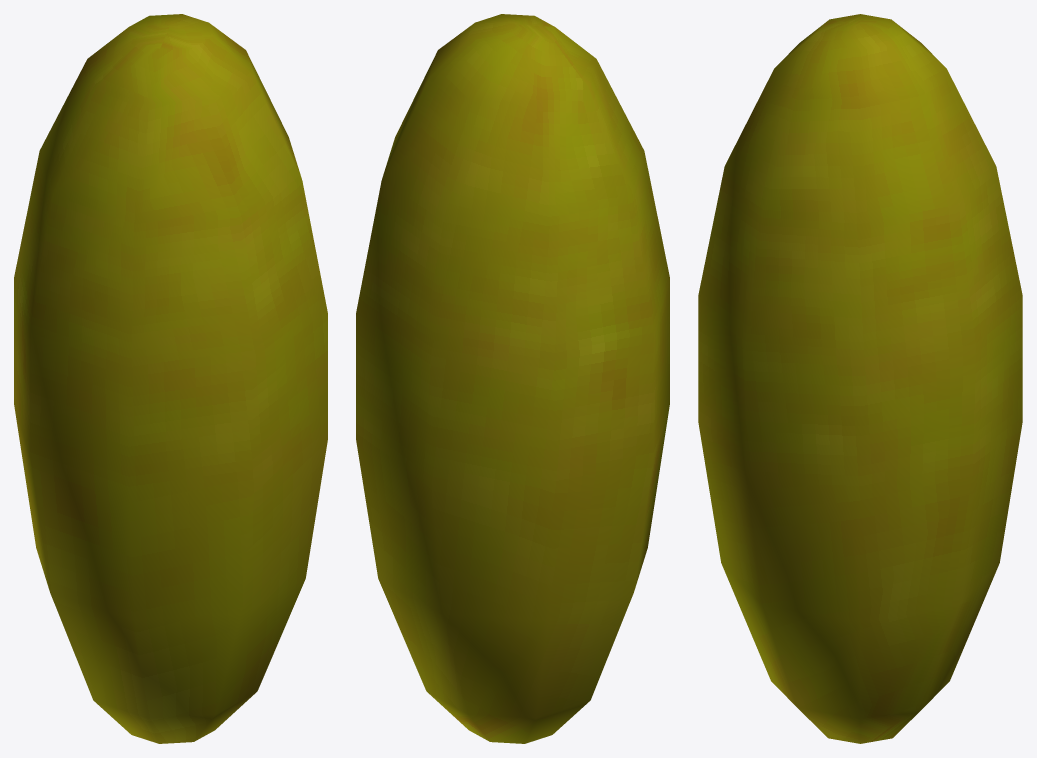
Rendered from treeUnknown.obj.
The picture shows the model from 3 angles, left to right: view 1: azimuth 30°, elevation 25°; view 2: azimuth 150°, elevation 25°; view 3: azimuth 270°, elevation 25°; orthographic projection.
Visible parts, largest first — view 1: Tree_A_TreeA; view 2: Tree_A_TreeA; view 3: Tree_A_TreeA.
Part boxes in pixels (bbox=[...]): Tree_A_TreeA: bbox=[14, 14, 327, 743]; Tree_A_TreeA: bbox=[356, 14, 669, 743]; Tree_A_TreeA: bbox=[698, 14, 1022, 743].
Bounding box in the file's own units: 0.5959 × 1.44 × 0.5959.
1 material, 1 textured.
